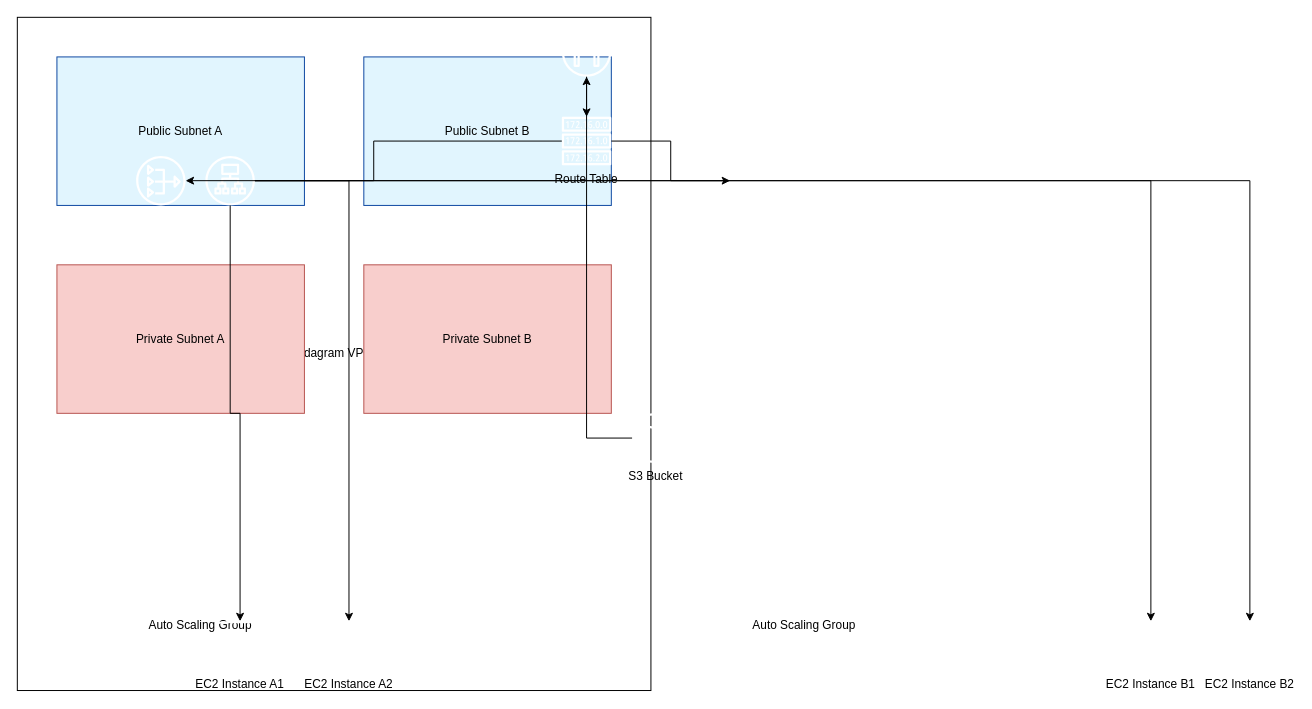
This 1312x709 diagram has some shape labels left out. The centre of each missing label's shape, as x and y in pixels:
Application Load Balancer: point 229,180
Internet Gateway: point 586,51
NAT Gateway 1: point 160,180
NAT Gateway 2: point 754,180
